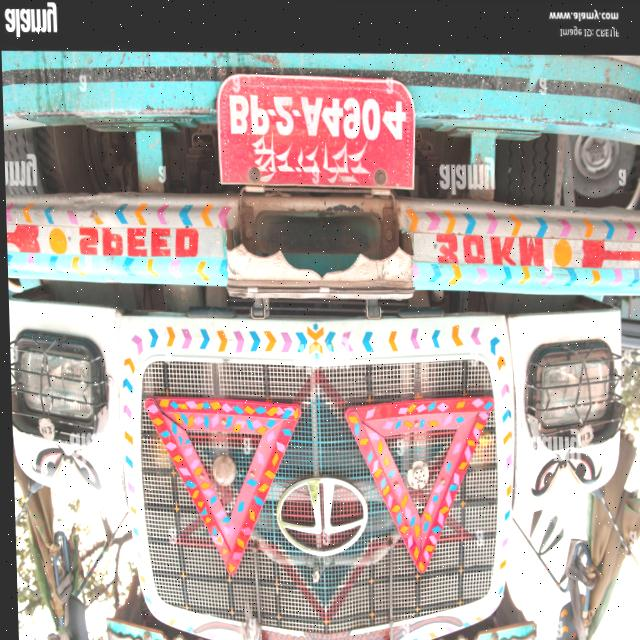plate: (216, 69, 413, 189)
